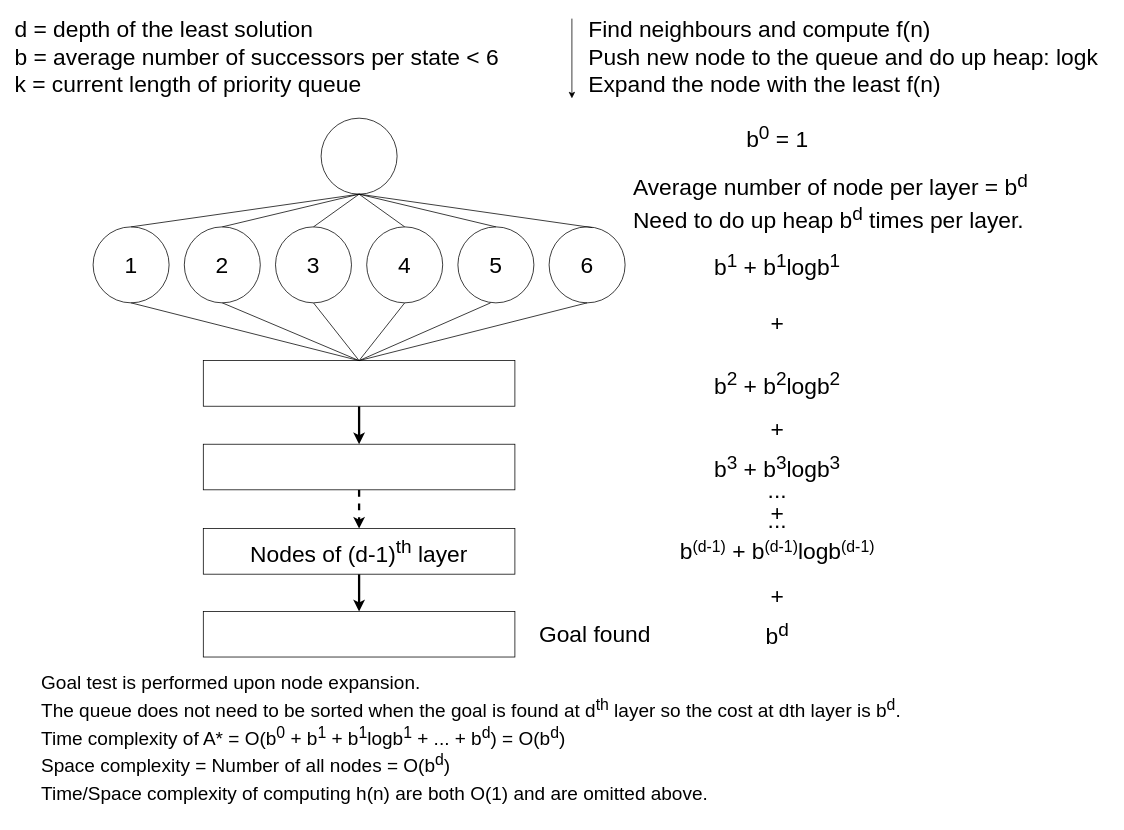
Image size: 1124x830. Some labels were removed from this diagram. The centre of each missing label's shape, as x and y in pixels:
Nodes of 2 nd layer: (x=359, y=383)
Nodes of 3 rd layer: (x=359, y=466)
Nodes of d th layer: (x=359, y=634)
Start: (x=358, y=155)
